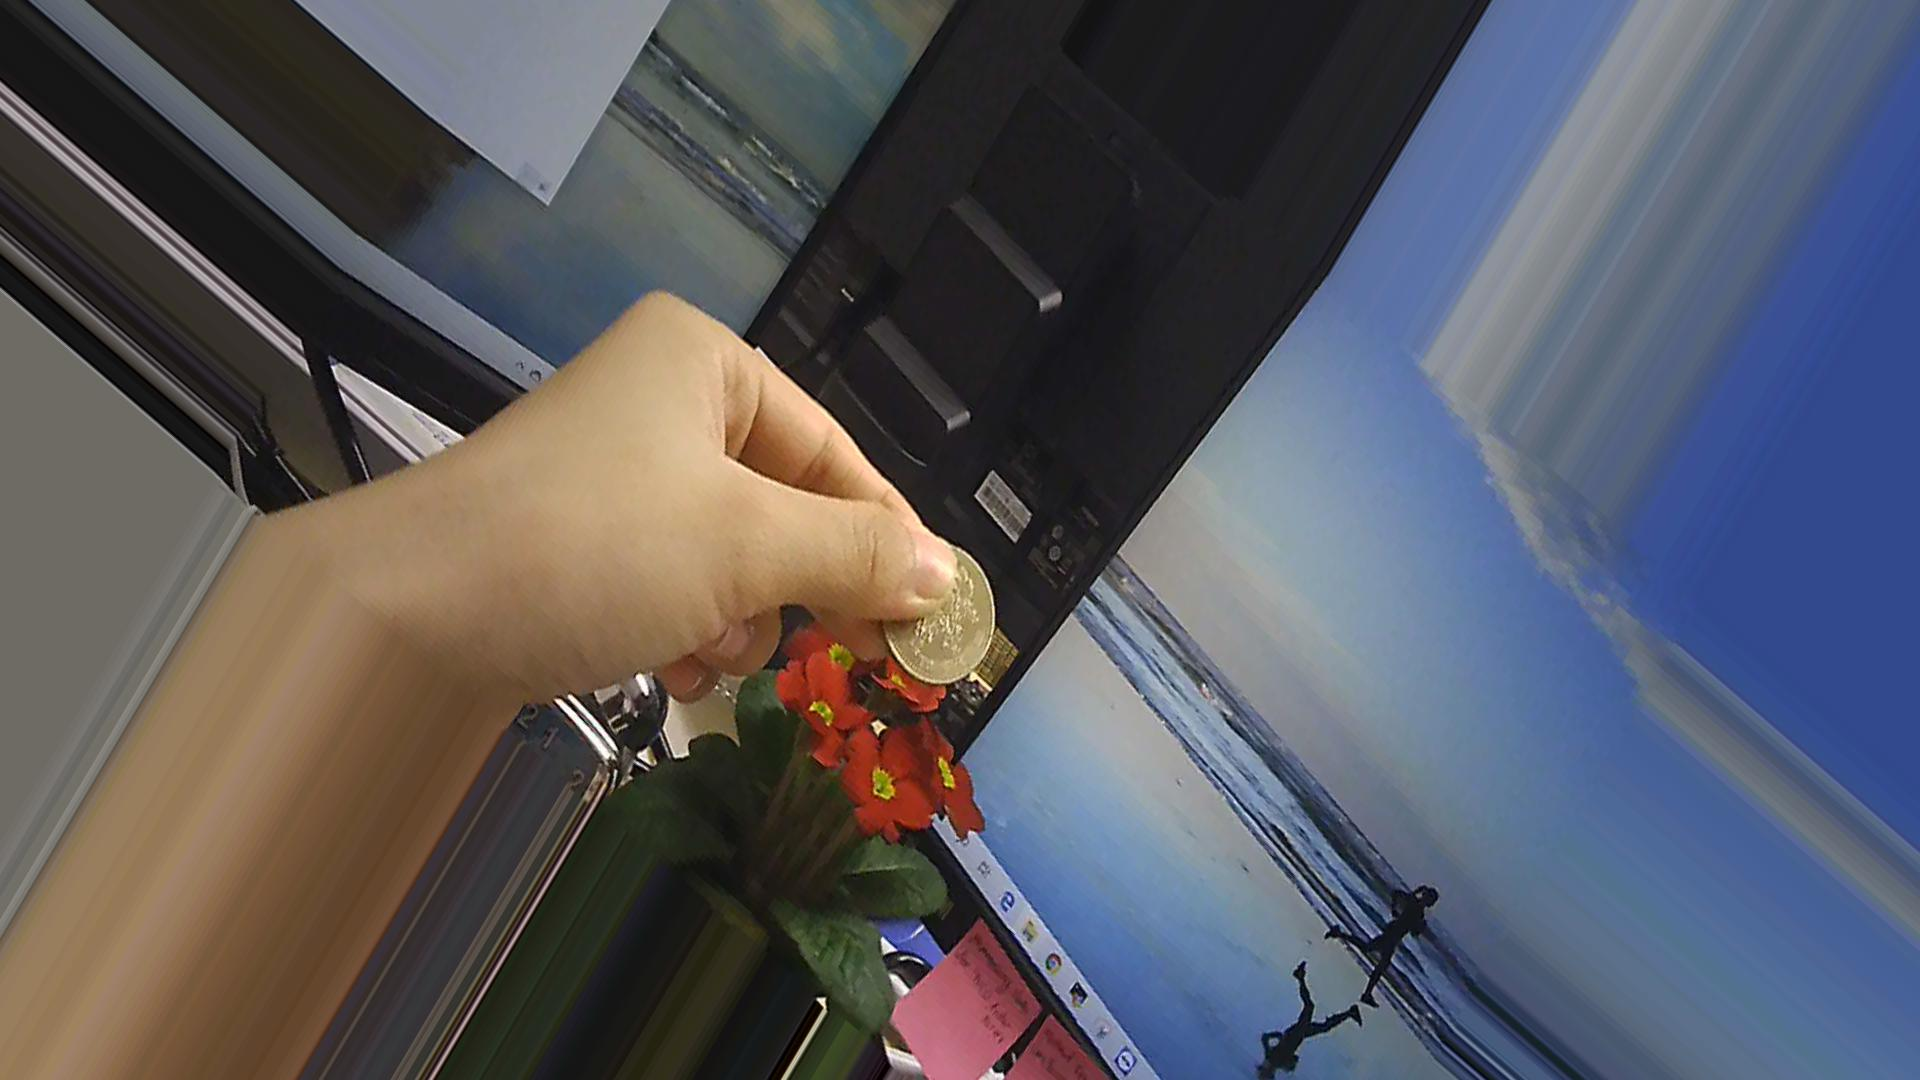500 Yen: (884, 534, 1005, 688)
